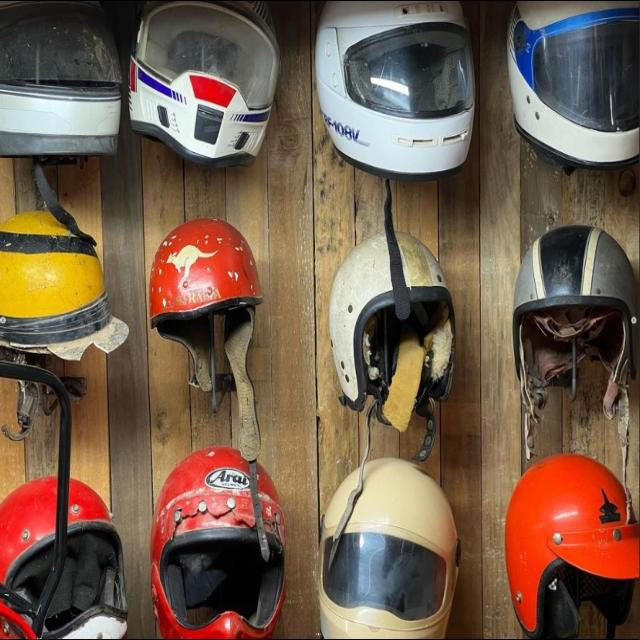helmet: (311, 0, 484, 187), (314, 451, 464, 640), (499, 450, 640, 640)
illegal_helmet: (321, 221, 459, 578), (143, 214, 272, 568), (0, 196, 133, 367)
